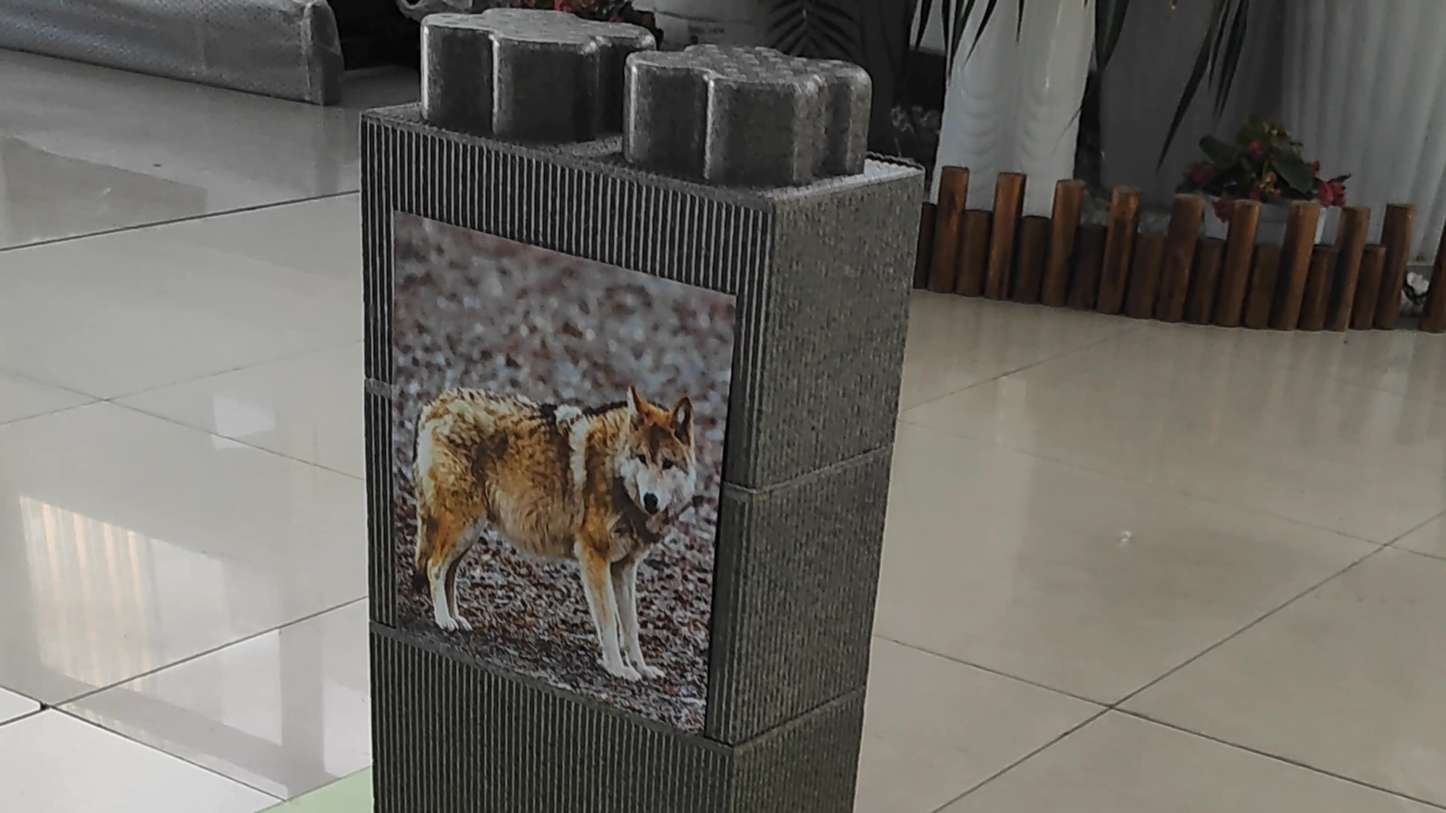wolf: (399, 317, 710, 700)
